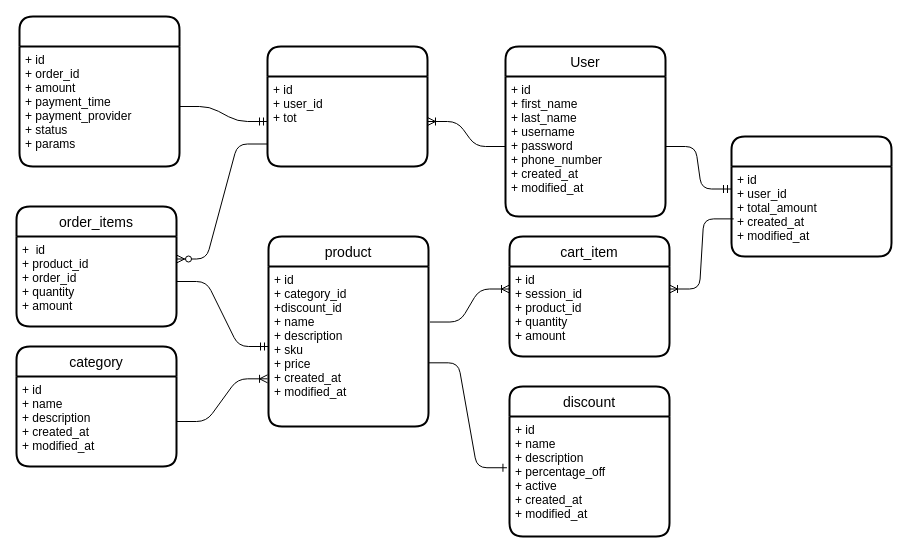
This 908x553 diagram has some shape labels left out. Each missing label, with the box of its shape:
cart_session: (730, 135, 892, 257)
order_details: (266, 45, 428, 167)
payment_details: (18, 15, 180, 167)
